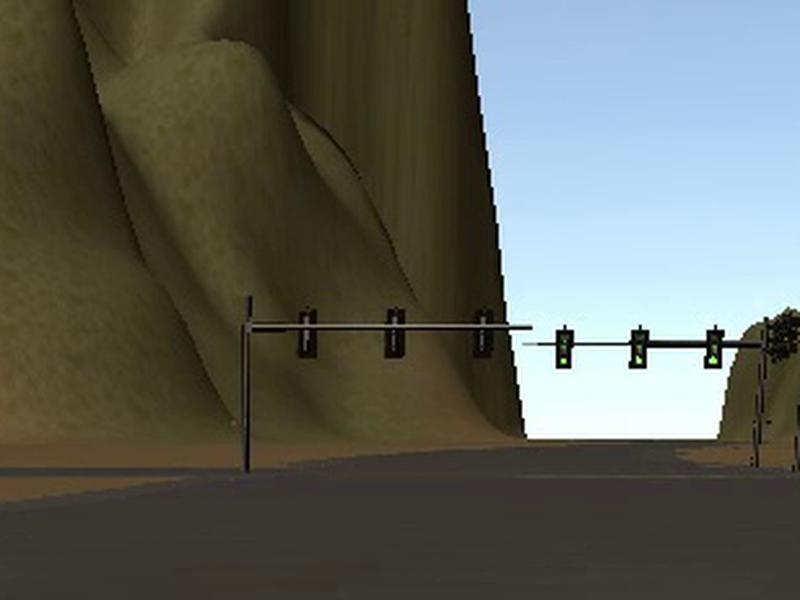Green: (702, 331, 724, 368), (627, 329, 647, 368), (555, 330, 572, 369)
